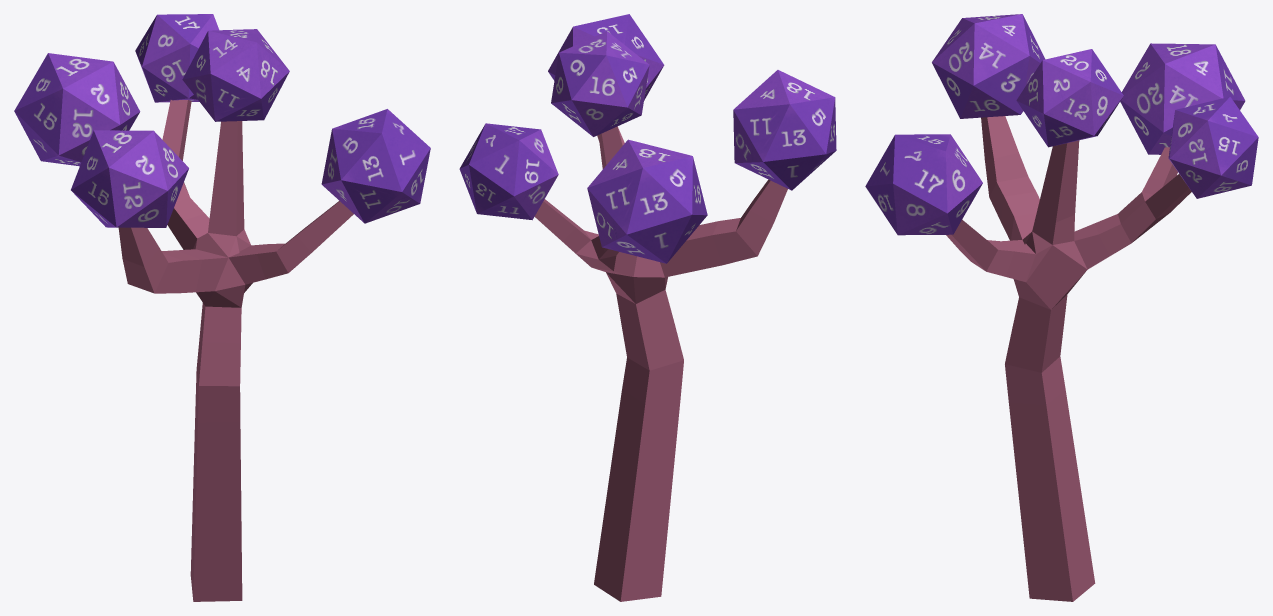
Rendered from tree2.fbx.
3 views of the same model, side by side, from view 1: azimuth 30°, elevation 25°; view 2: azimuth 150°, elevation 25°; view 3: azimuth 270°, elevation 25° (orthographic).
Visible parts, largest first — view 1: Cube.001, Icosphere.008, Icosphere.007, Icosphere.006, Icosphere.009, Icosphere.010; view 2: Cube.001, Icosphere.008, Icosphere.007, Icosphere.009, Icosphere.010, Icosphere.006; view 3: Cube.001, Icosphere.006, Icosphere.007, Icosphere.008, Icosphere.009, Icosphere.010.
Part boxes in pixels (bbox=[...]): Cube.001: bbox=[118, 100, 353, 601]; Icosphere.008: bbox=[14, 53, 140, 166]; Icosphere.007: bbox=[71, 130, 188, 227]; Icosphere.006: bbox=[321, 109, 430, 223]; Icosphere.009: bbox=[182, 29, 289, 121]; Icosphere.010: bbox=[135, 14, 219, 102]; Cube.001: bbox=[534, 126, 787, 601]; Icosphere.008: bbox=[587, 139, 707, 263]; Icosphere.007: bbox=[733, 70, 836, 190]; Icosphere.009: bbox=[551, 31, 649, 136]; Icosphere.010: bbox=[459, 123, 558, 220]; Icosphere.006: bbox=[548, 14, 664, 100]; Cube.001: bbox=[946, 116, 1191, 601]; Icosphere.006: bbox=[865, 134, 982, 235]; Icosphere.007: bbox=[932, 14, 1045, 118]; Icosphere.008: bbox=[1120, 43, 1245, 154]; Icosphere.009: bbox=[1016, 49, 1123, 147]; Icosphere.010: bbox=[1168, 96, 1258, 198].
Size of the model in its own units: 364 by 616 by 400.
6 materials, 5 textured.
